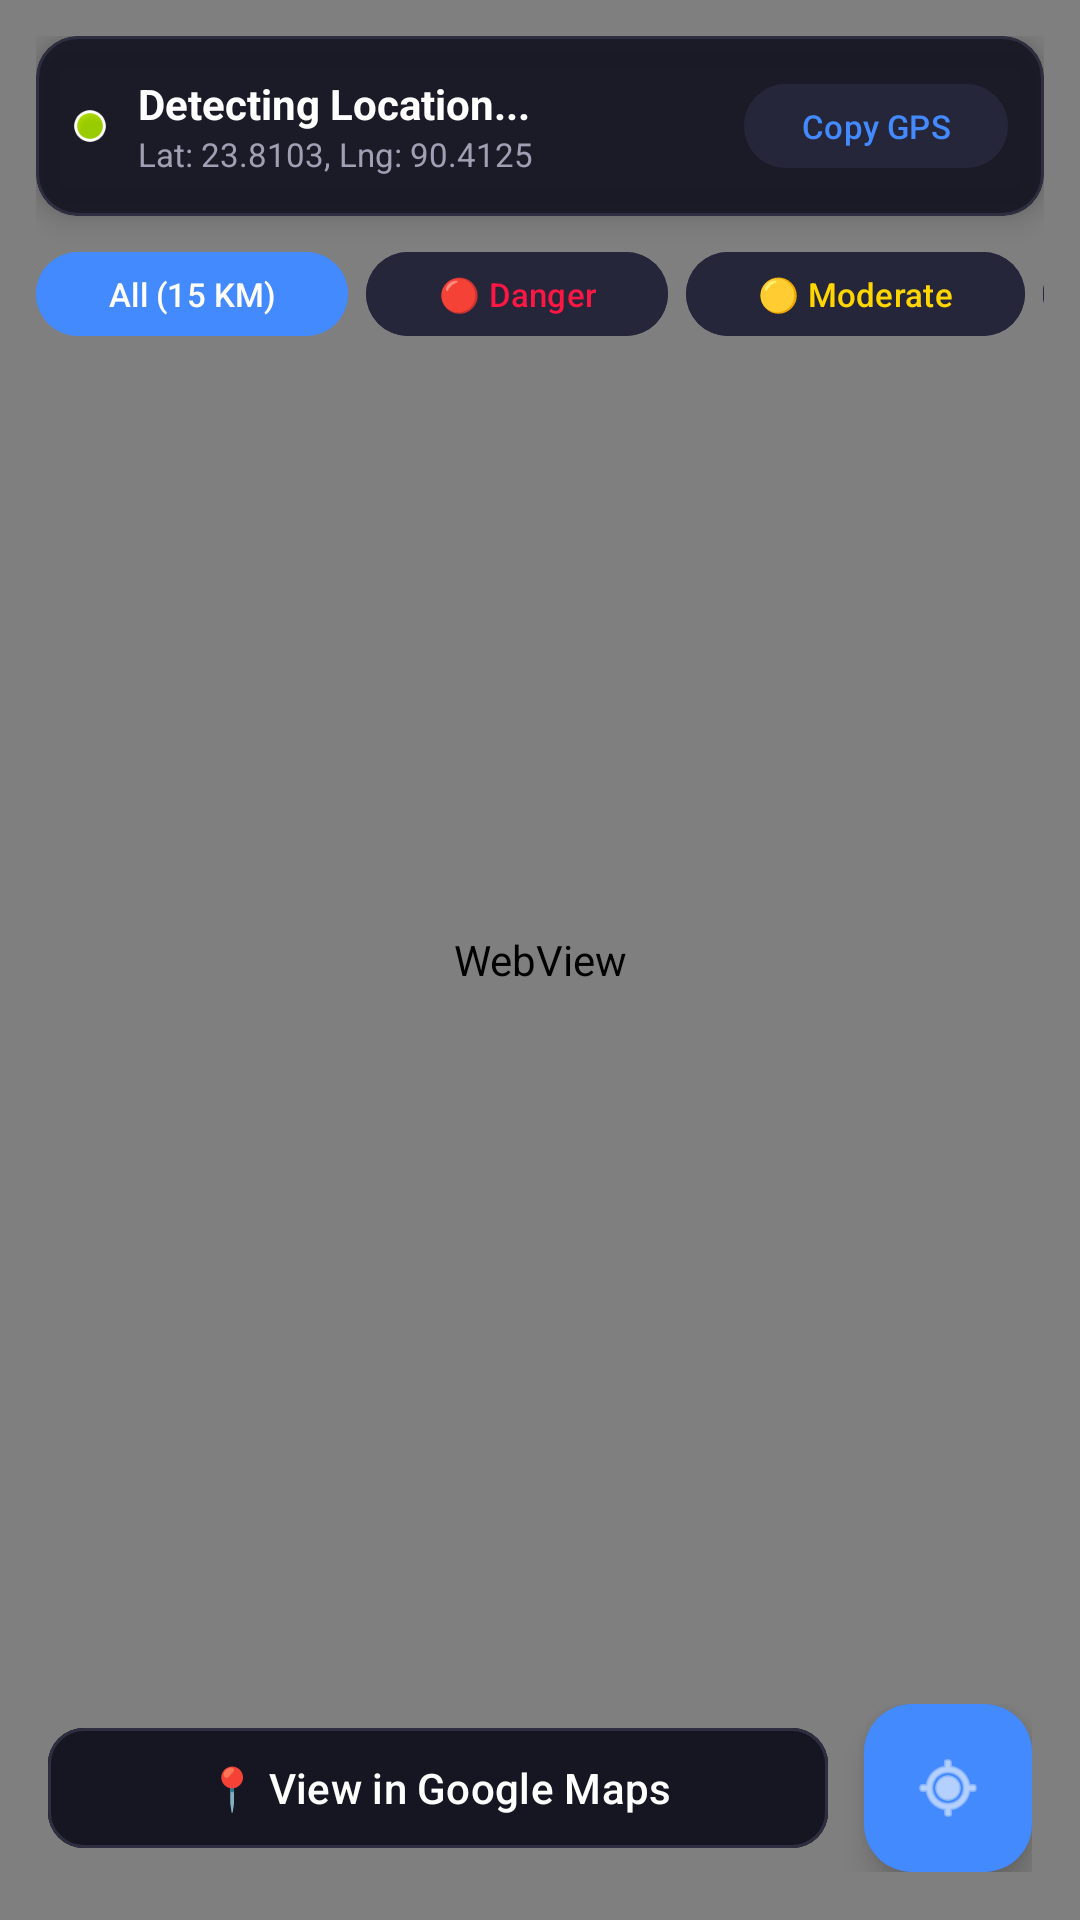

Screen size 1080px×1920px. Icon name, then its box in pixels as (x1=x1, y1=y1, x2=x2, y2=y2):
Locate Me: (x1=864, y1=1704, x2=1032, y2=1872)
presence online: (x1=74, y1=110, x2=106, y2=142)
